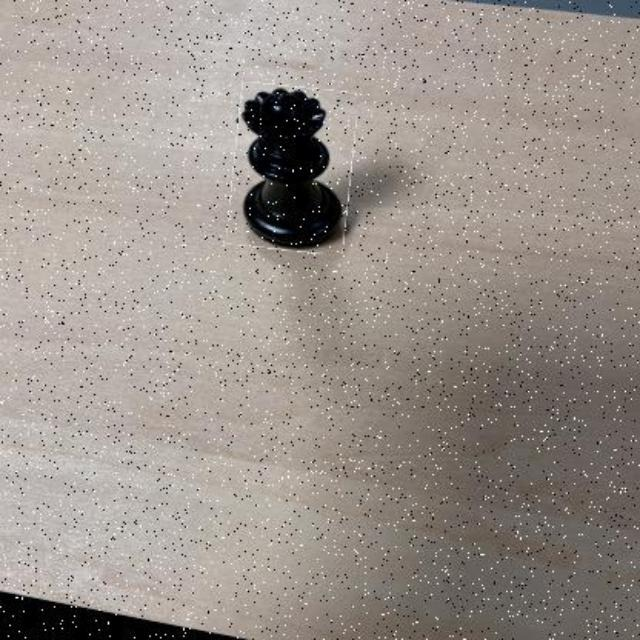black-queen: (230, 84, 354, 253)
